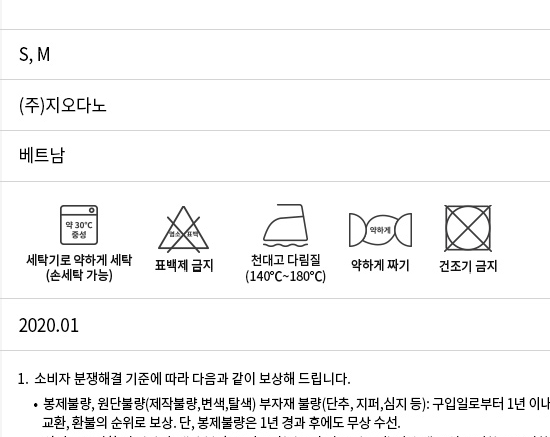KR_gentle_wring: (342, 202, 418, 254)
KR_no_chlorine_bleach: (153, 198, 211, 256)
KR_no_tumble_dry: (437, 200, 495, 256)
KR_wash_warm_30_neutral: (53, 198, 107, 250)
